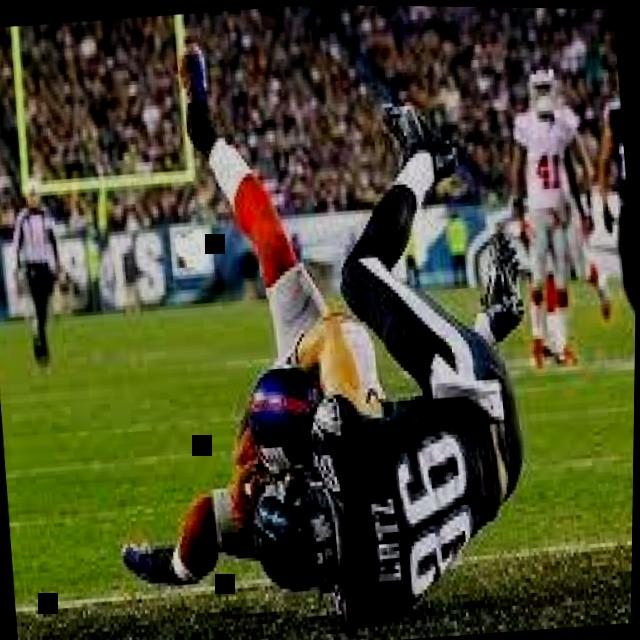Fall-Detected: (66, 21, 552, 627)
